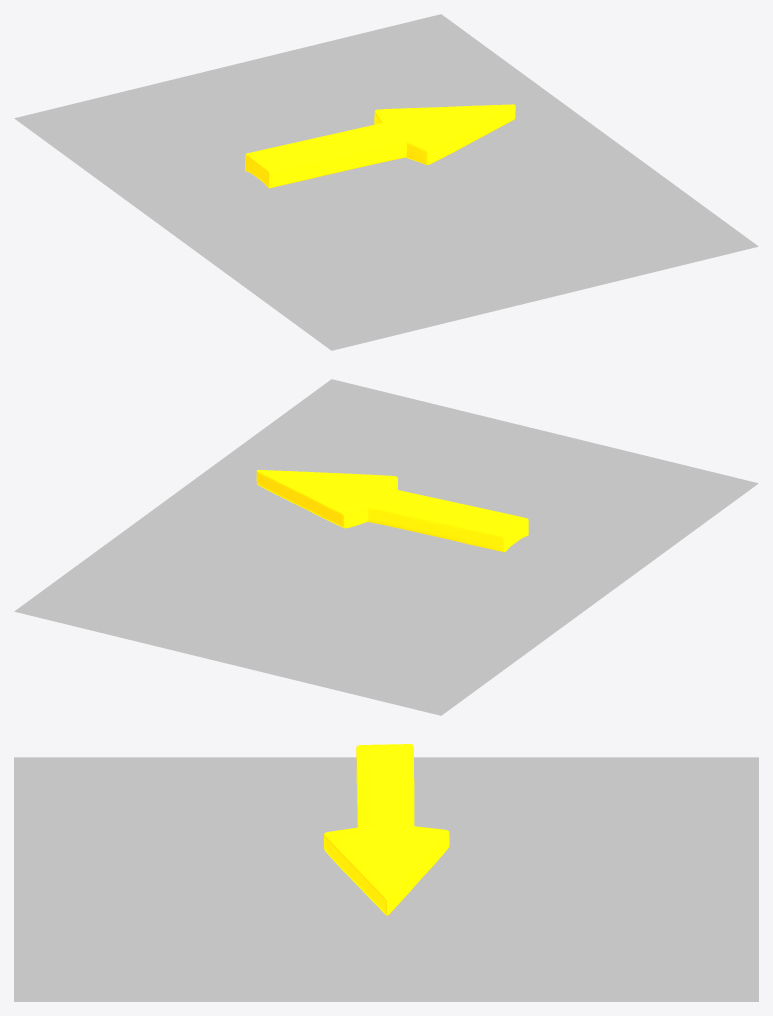
Rendered from modelwall.glb.
3 views of the same model, one above another, from view 1: azimuth 30°, elevation 25°; view 2: azimuth 150°, elevation 25°; view 3: azimuth 270°, elevation 25° (orthographic). The views are drawn at different scales.
Parts seen in each view (by area): view 1: Plane, Mesh_0.001; view 2: Plane, Mesh_0.001; view 3: Plane, Mesh_0.001.
Boxes of the visible parts, bbox=[...] form: Plane: bbox=[14, 14, 758, 350]; Mesh_0.001: bbox=[245, 104, 515, 188]; Plane: bbox=[14, 379, 758, 715]; Mesh_0.001: bbox=[256, 470, 528, 552]; Plane: bbox=[14, 757, 758, 1001]; Mesh_0.001: bbox=[324, 744, 449, 915].
Size of the model in its own units: 3.29 by 0.3886 by 4.24.
